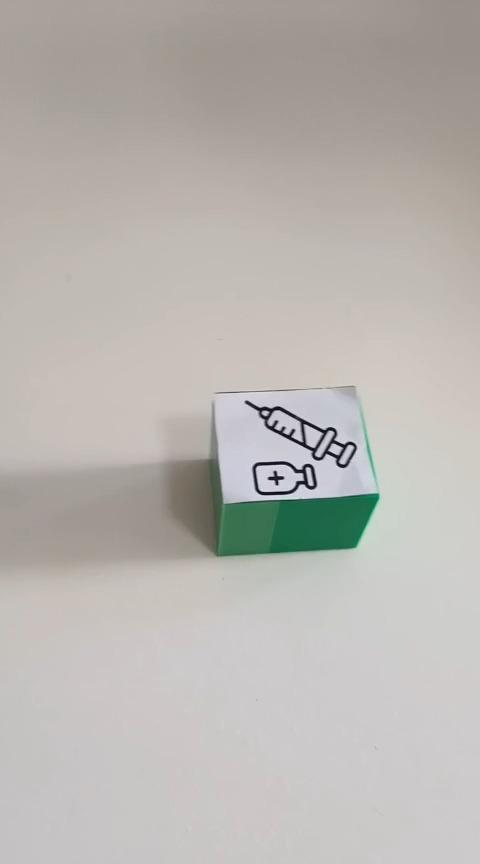antiseptic cream: (208, 384, 380, 556)
